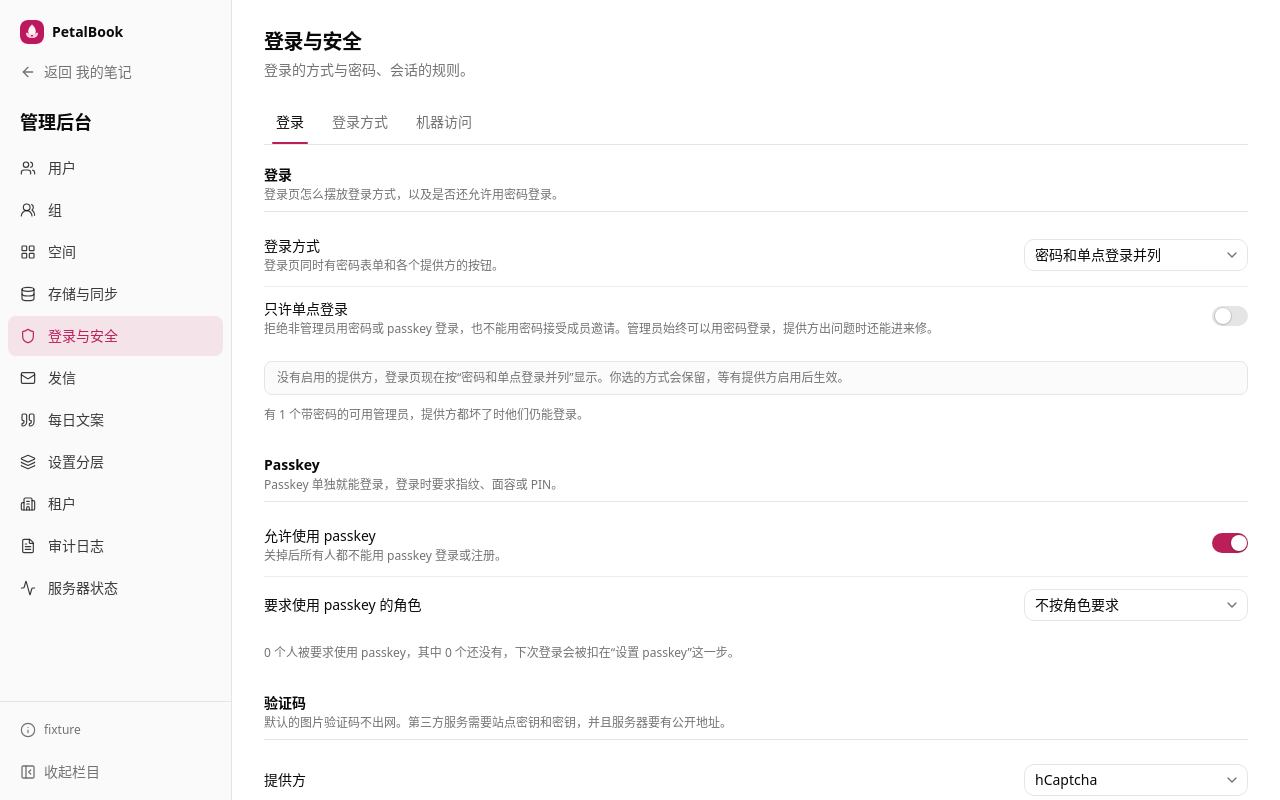
Test: the security page › changing the captcha provider away from the stored one clears its site key, and coming back restores it
Step 1. Select "hCaptcha" in the dropdown with id "security-captcha-provider" → x=1136, y=780, box [1024,764,1248,796]
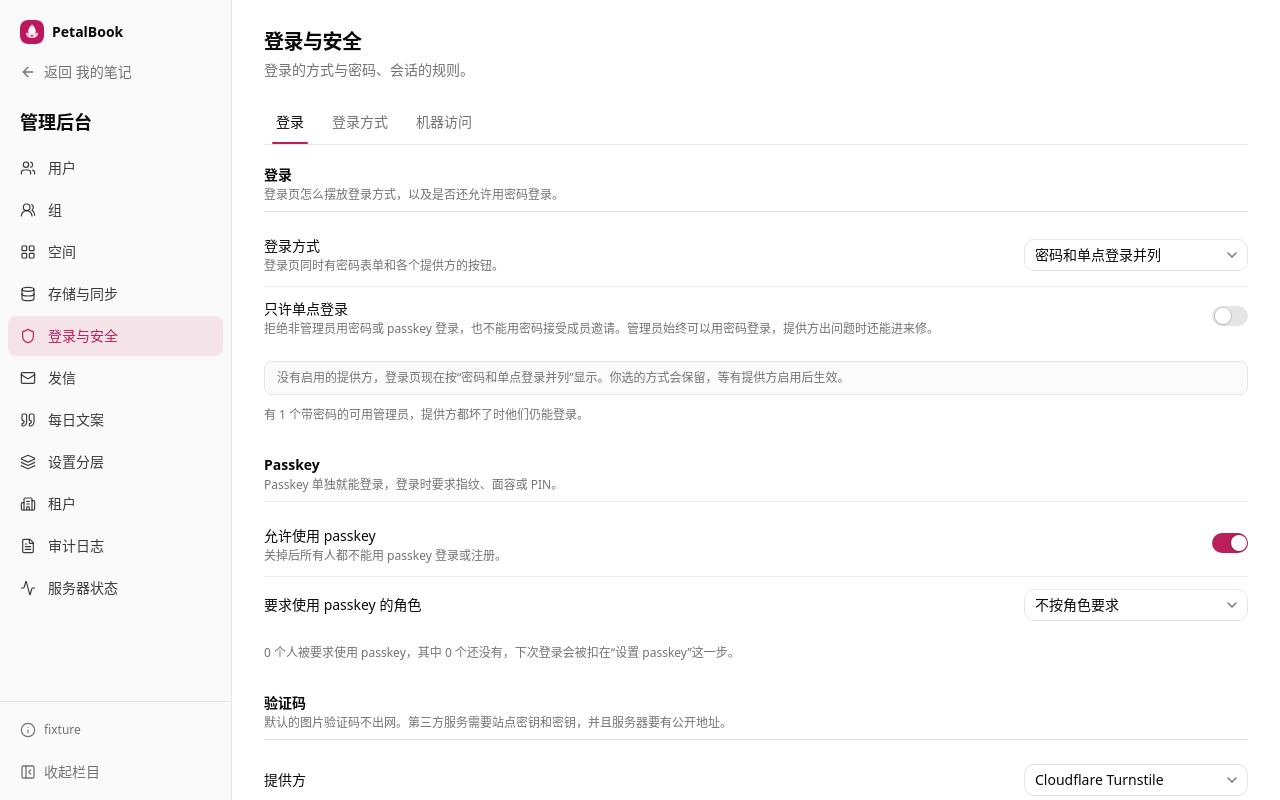
Step 2. Select "Cloudflare Turnstile" in the dropdown with id "security-captcha-provider" → x=1136, y=780, box [1024,764,1248,796]
(page scrolled)
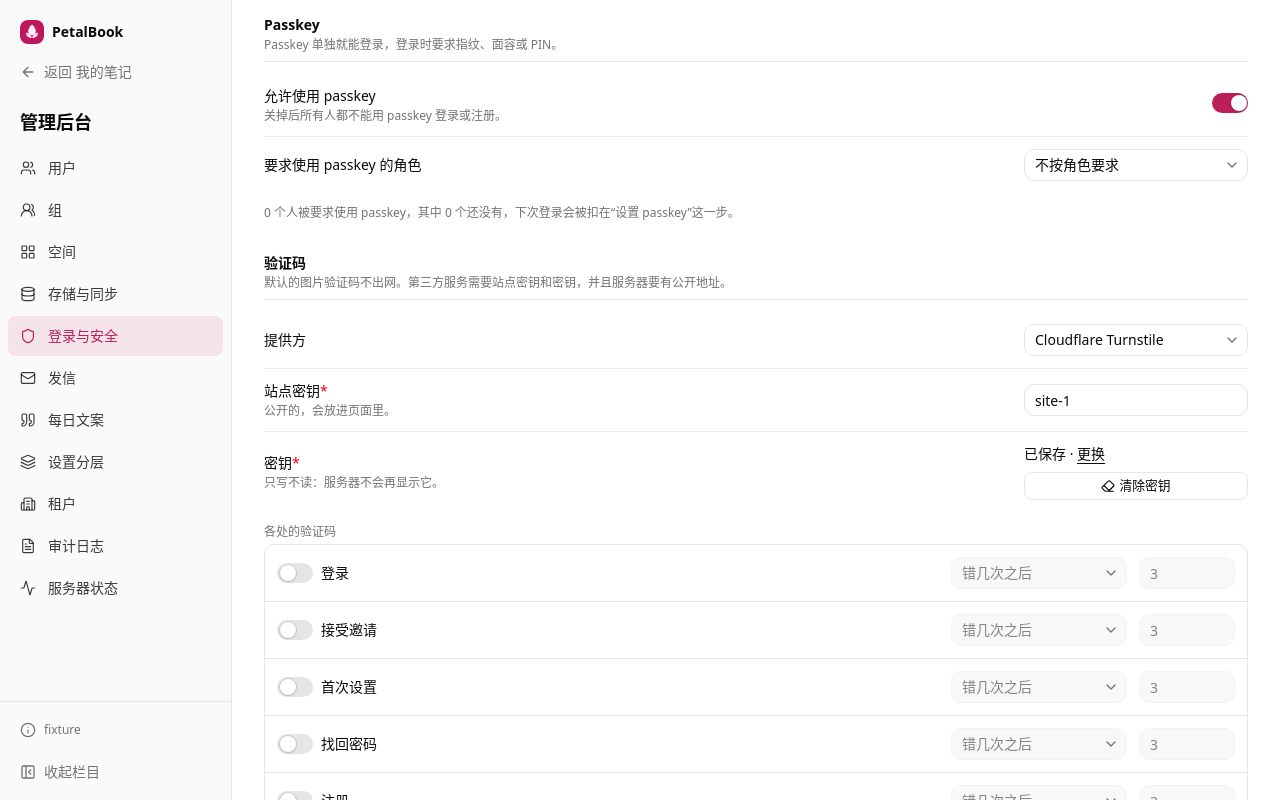
expect the field with id "security-sitekey" holds "site-1": met, box [1024,384,1248,416]
